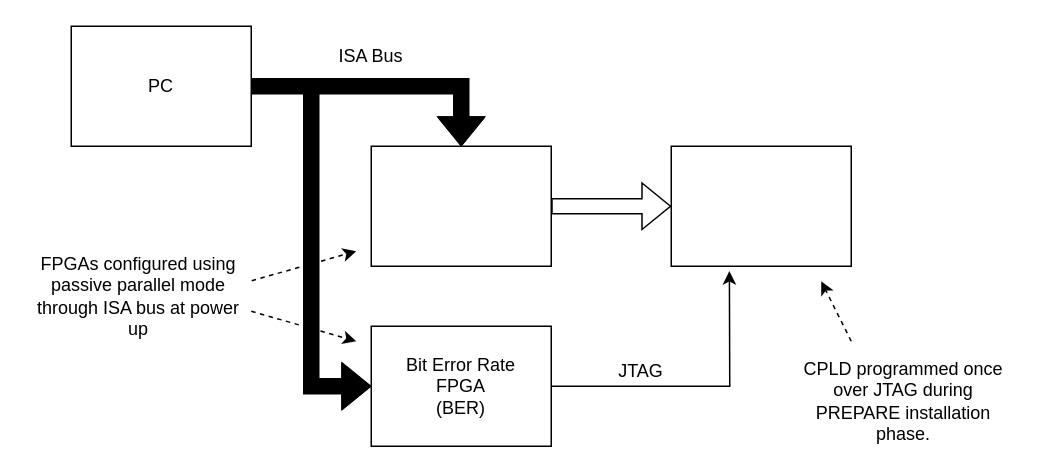
The diagram is 1041 pixels wide and 473 high, and some of its shapes have lost their labels. The shapes that lost their labels are listed below. From the top down, each one's centre as x and y in pixels, then its label:
At point (460, 205): "Address Generator FPGA (SEQ)".
At point (760, 205): "SDRAM Controller CPLD (CONT)".
